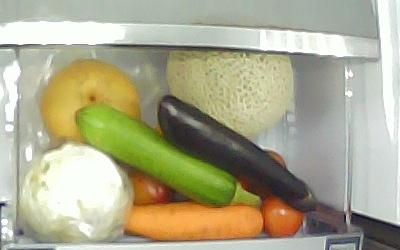cabbage: (18, 141, 129, 240)
carrot: (123, 203, 264, 239)
eggplant: (156, 93, 317, 213)
melon: (164, 47, 293, 137)
pear: (39, 58, 141, 146)
prune: (260, 193, 303, 237), (126, 167, 171, 206)
zucchini: (73, 103, 262, 208)
